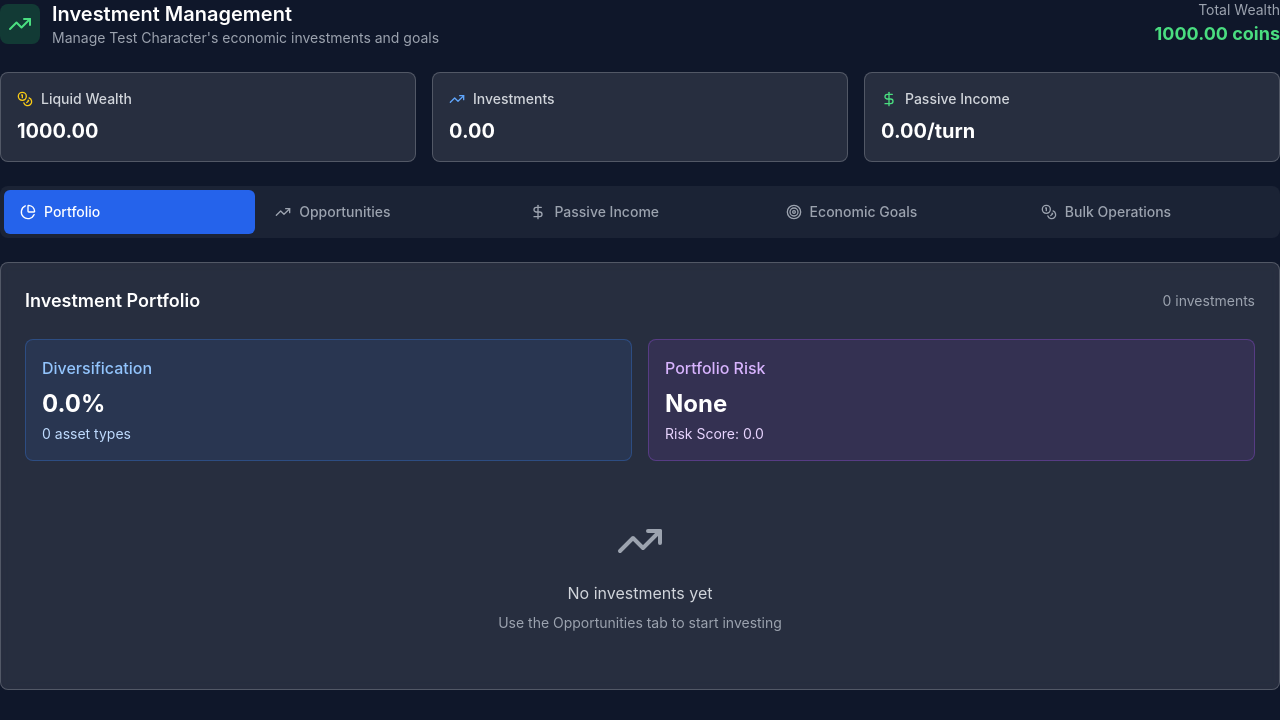
Scenario: InvestmentEditor Integration Tests › Opportunities Tab › validates investment amount constraints
Click the button "Opportunities".
click(385, 212)  # box [259,190,510,234]
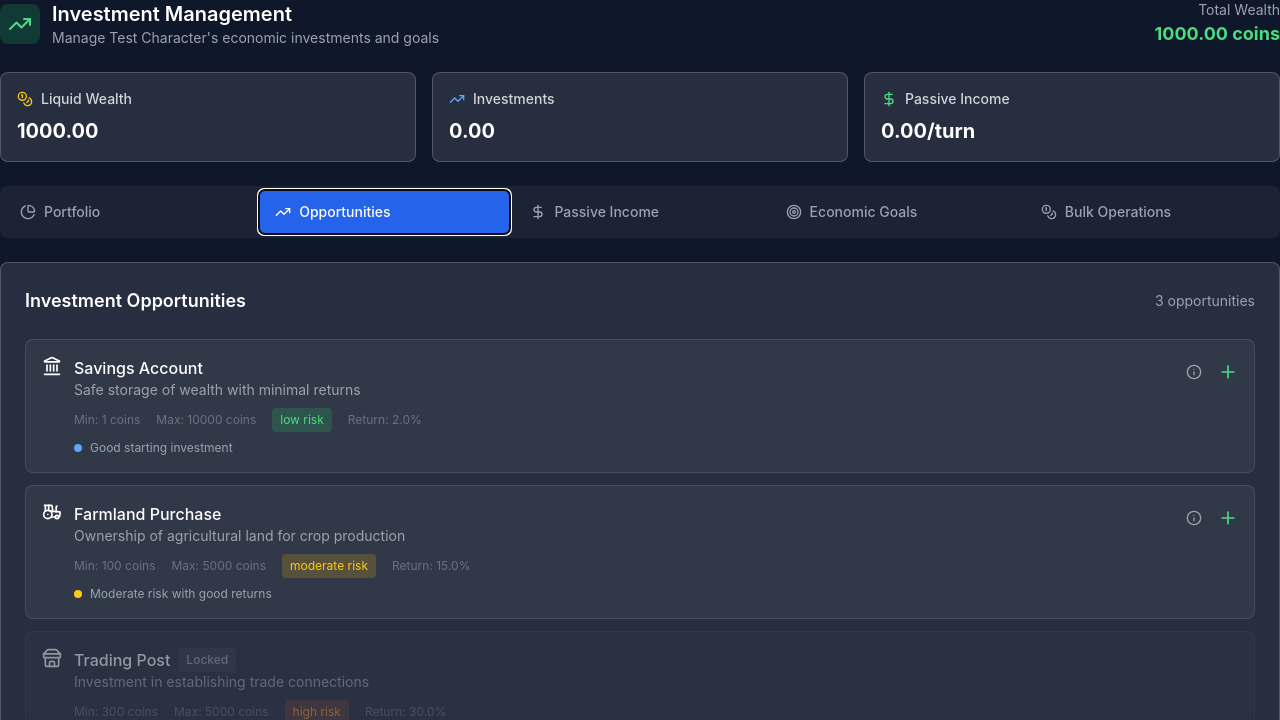
Expected: the text "Min: 1 coins" is shown, [74,412,140,428]
Expected: the text "Min: 100 coins" is shown, [74,558,156,574]
